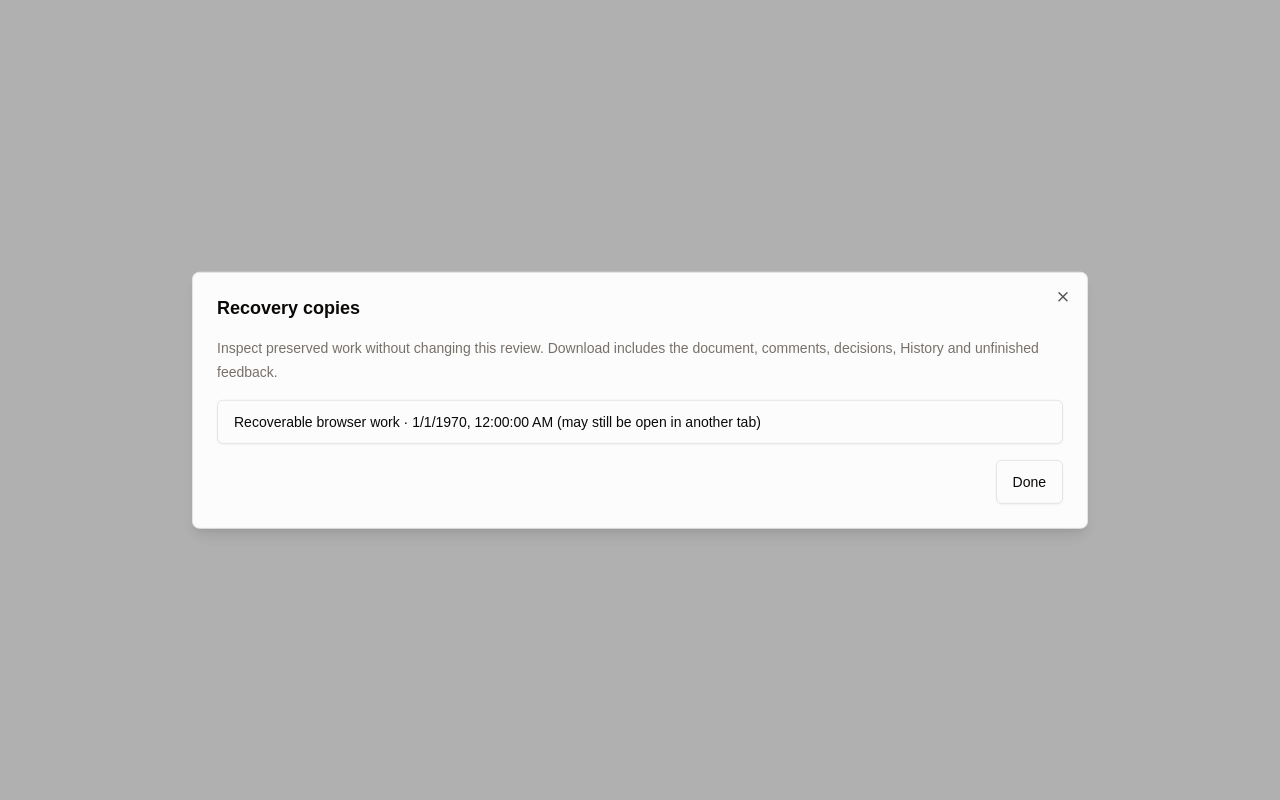
Test case: an inspected orphan can be restored explicitly or dismissed only after confirmation
Later steps or results of the test are not shown.
Click the button that starts with "Recoverable browser work ·". click: (640, 421)
box: [217, 399, 1063, 443]
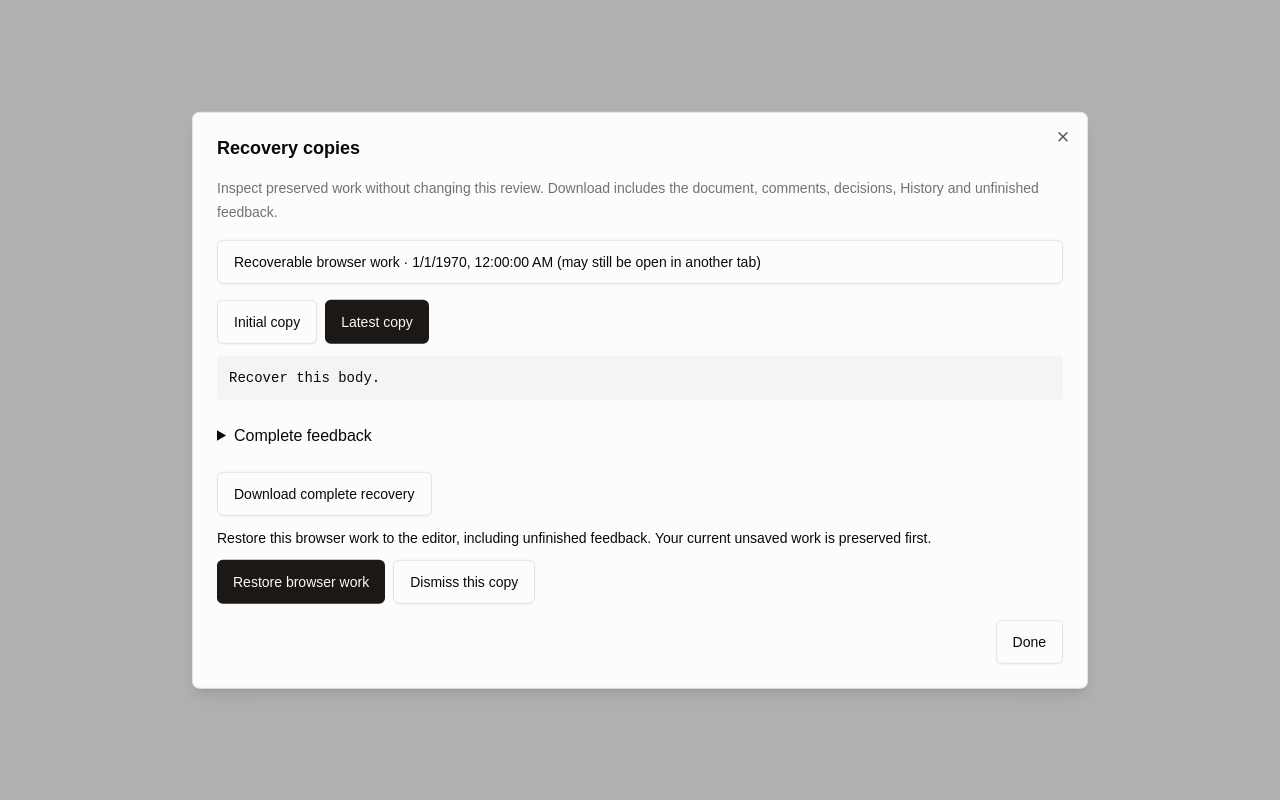
Click the button "Restore browser work". click: (301, 581)
box: [217, 559, 385, 603]
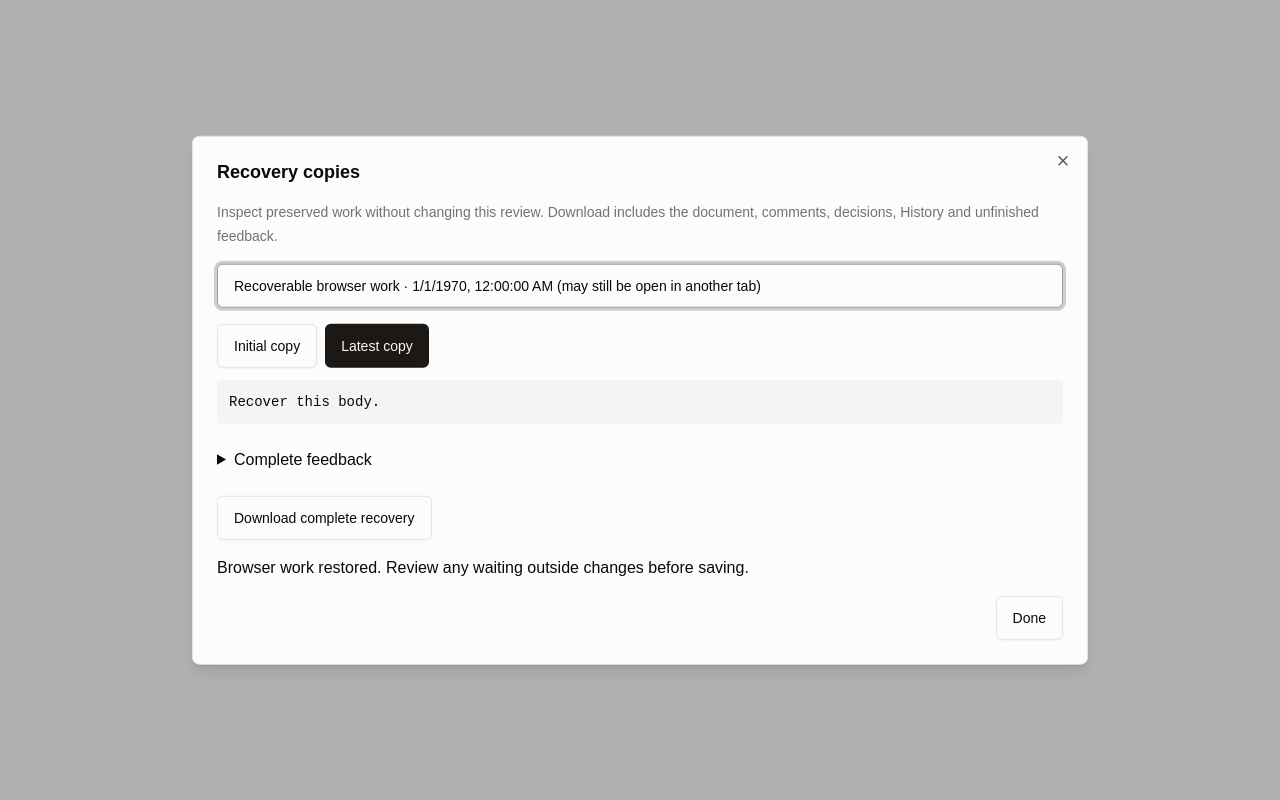
Click the button that starts with "Recoverable browser work ·". click: (640, 285)
box: [217, 263, 1063, 307]
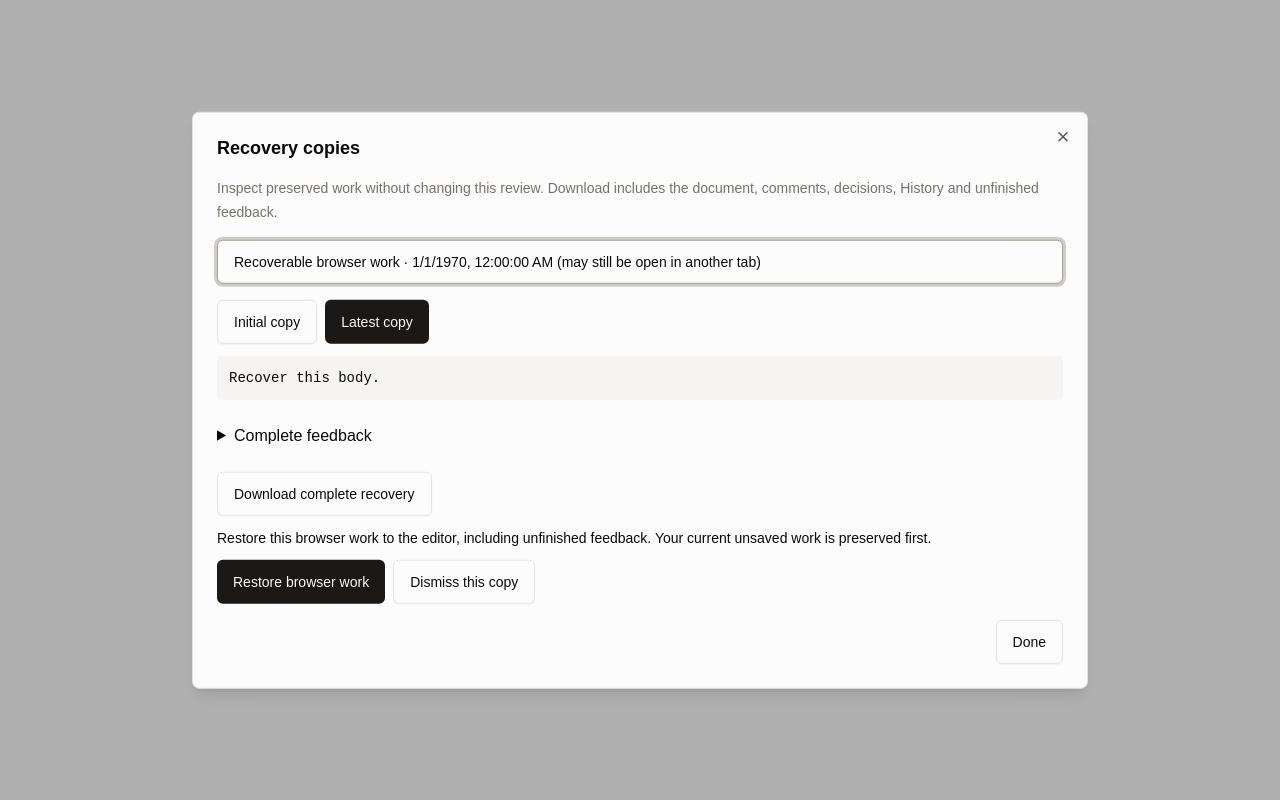
Click the button "Dismiss this copy". click: (464, 581)
box: [393, 559, 535, 603]
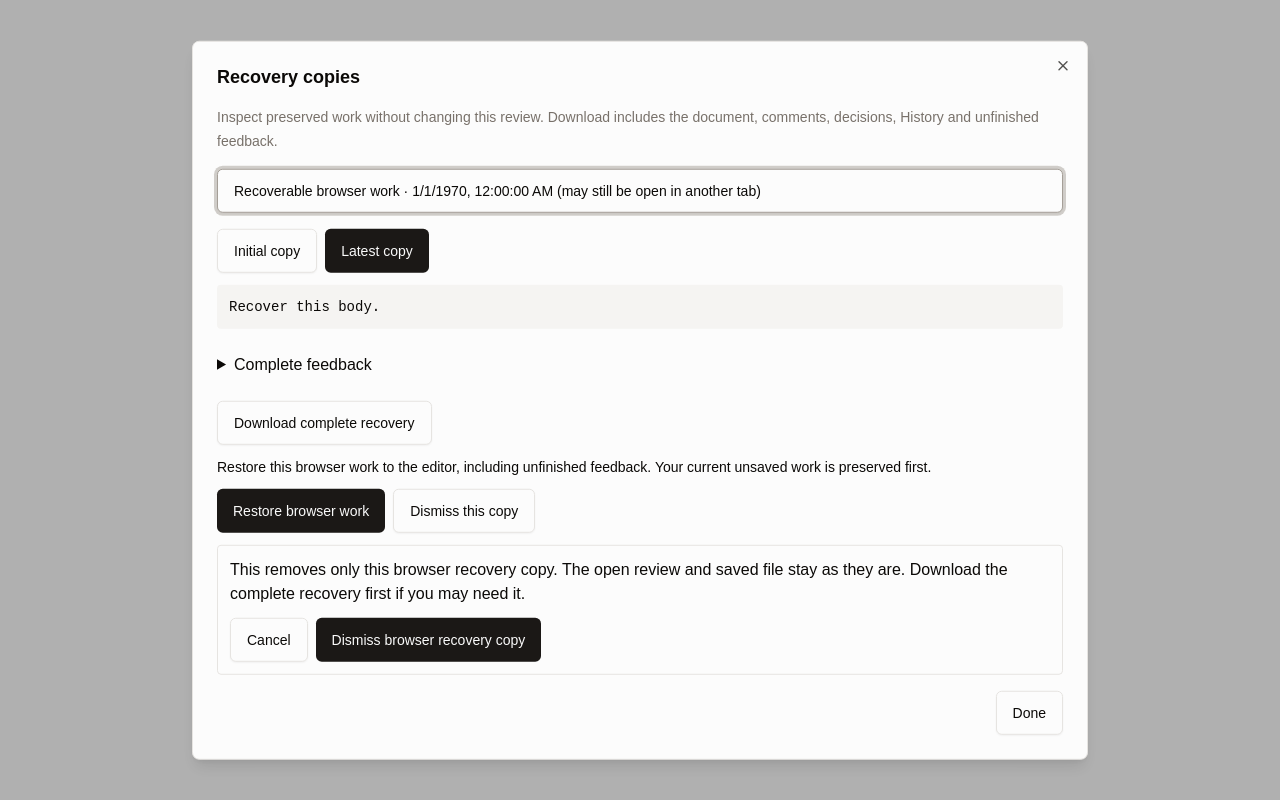
Expected: the text "This removes only this browser recovery copy" is shown, [230, 560, 1008, 601]
